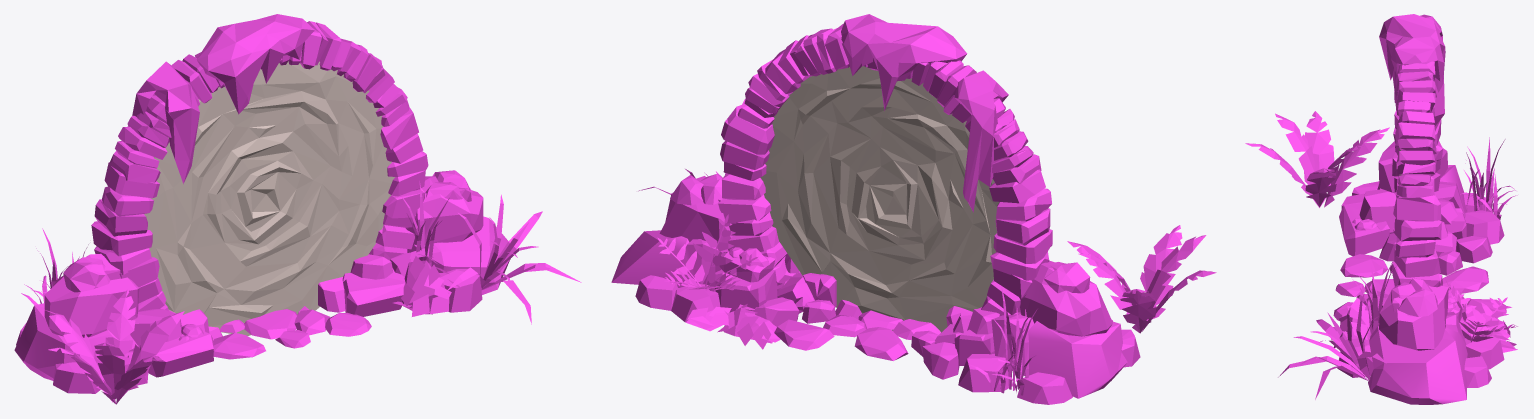
Rendered from SM_Portal_A_Overgrown_Fantasy.fbx.
3 renders of one model, left to right at view 1: azimuth 30°, elevation 25°; view 2: azimuth 150°, elevation 25°; view 3: azimuth 270°, elevation 25°, orthographic. The views are drawn at different scales.
Visible parts, largest first — view 1: SM_Portal_A_Overgrown_Fantasy; view 2: SM_Portal_A_Overgrown_Fantasy; view 3: SM_Portal_A_Overgrown_Fantasy.
Part boxes in pixels (bbox=[...]): SM_Portal_A_Overgrown_Fantasy: bbox=[14, 14, 581, 404]; SM_Portal_A_Overgrown_Fantasy: bbox=[611, 14, 1216, 404]; SM_Portal_A_Overgrown_Fantasy: bbox=[1245, 14, 1517, 404].
Size of the model in its own units: 5.24 by 2.88 by 2.61.
